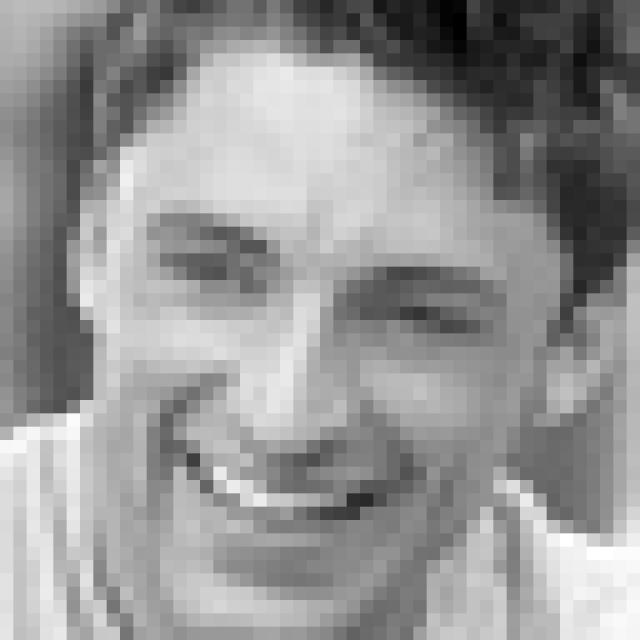happy: (132, 199, 514, 586)
